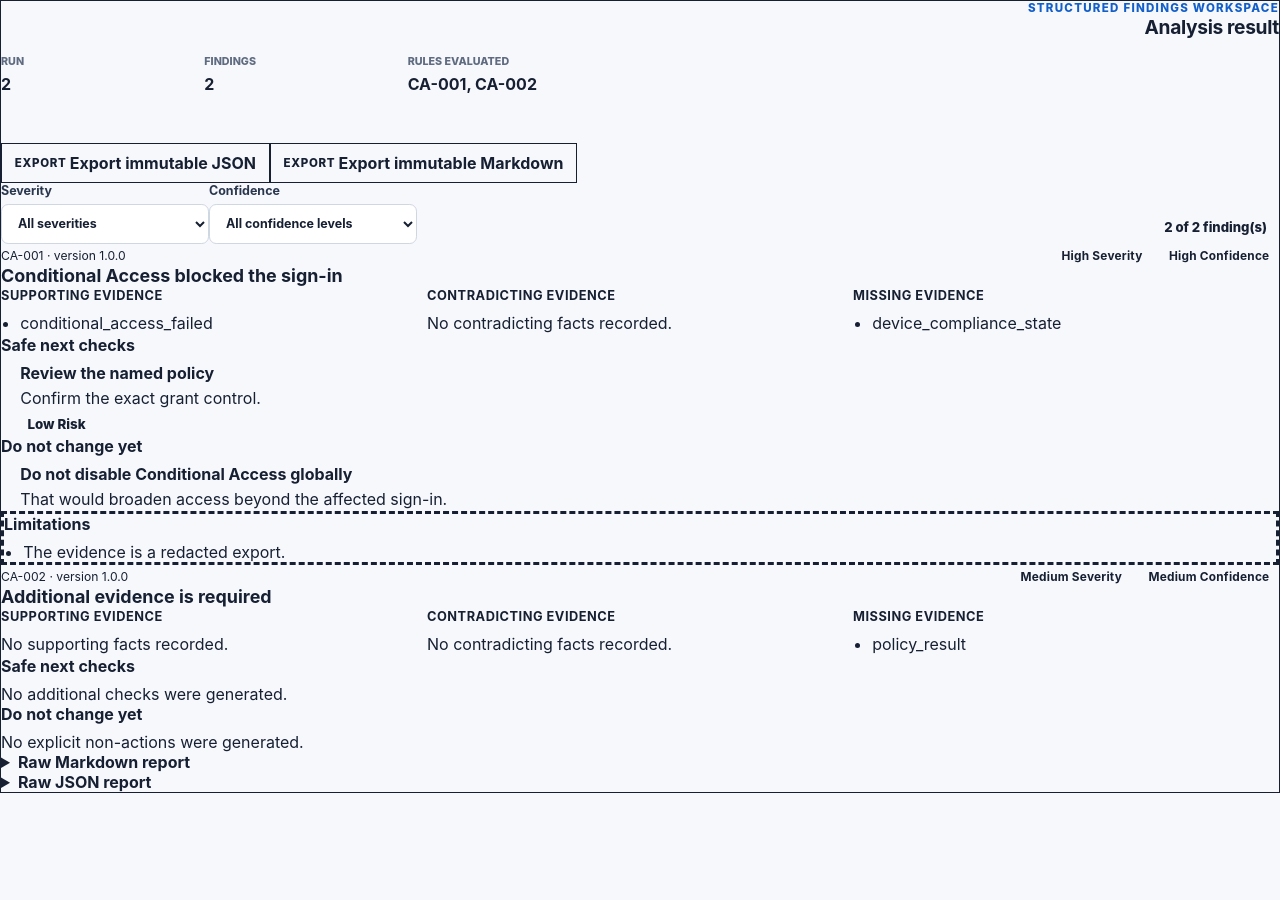
filters findings without altering the raw report
Select "Medium" in the dropdown labelled "Severity" at x=105, y=224, box x1=1 y1=204 x2=209 y2=244
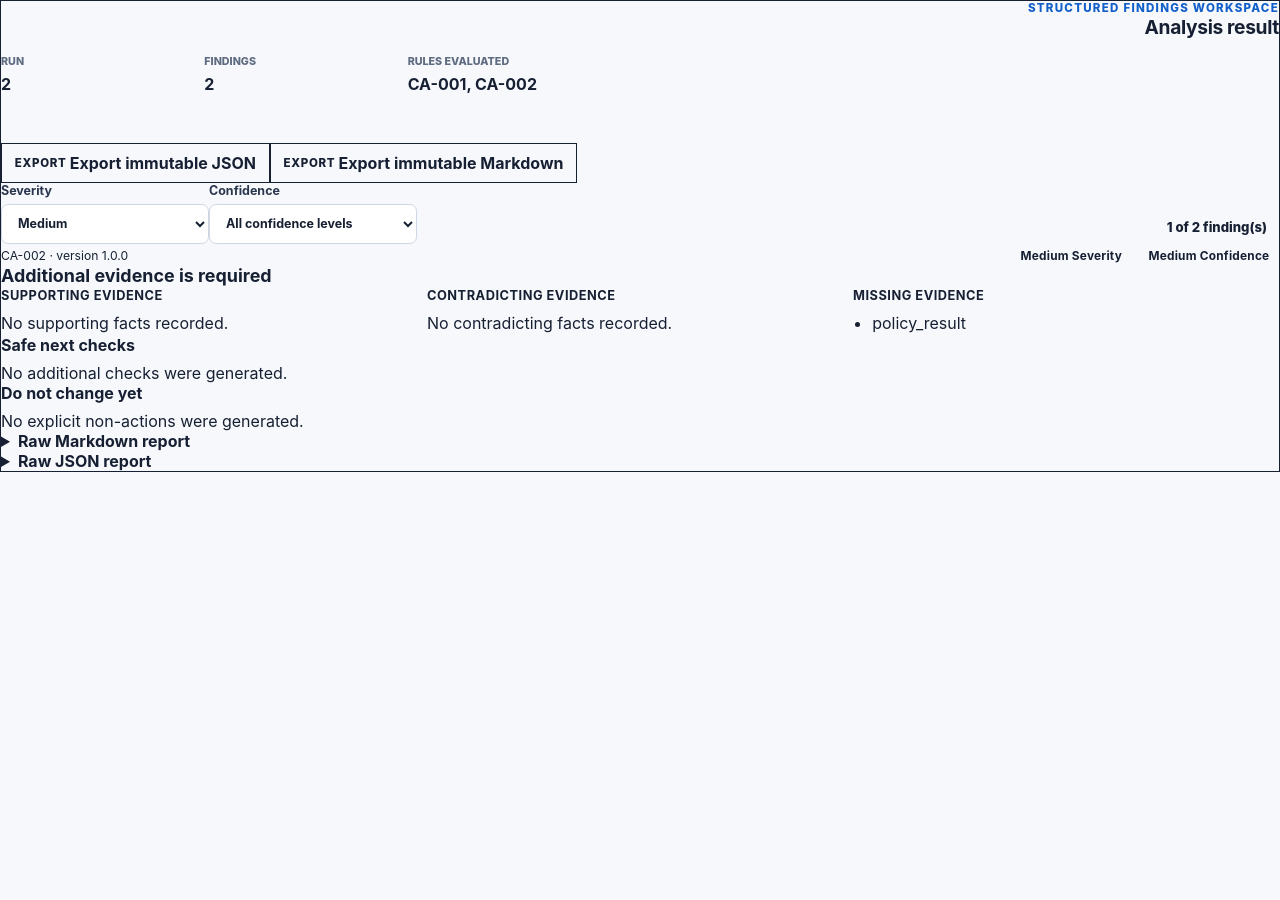
Expected: the heading "Additional evidence is required" is shown, x1=1 y1=264 x2=272 y2=288
Expected: the heading "Conditional Access blocked the sign-in" is gone
Expected: the text "1 of 2 finding(s)" is shown, x1=1167 y1=219 x2=1267 y2=235
